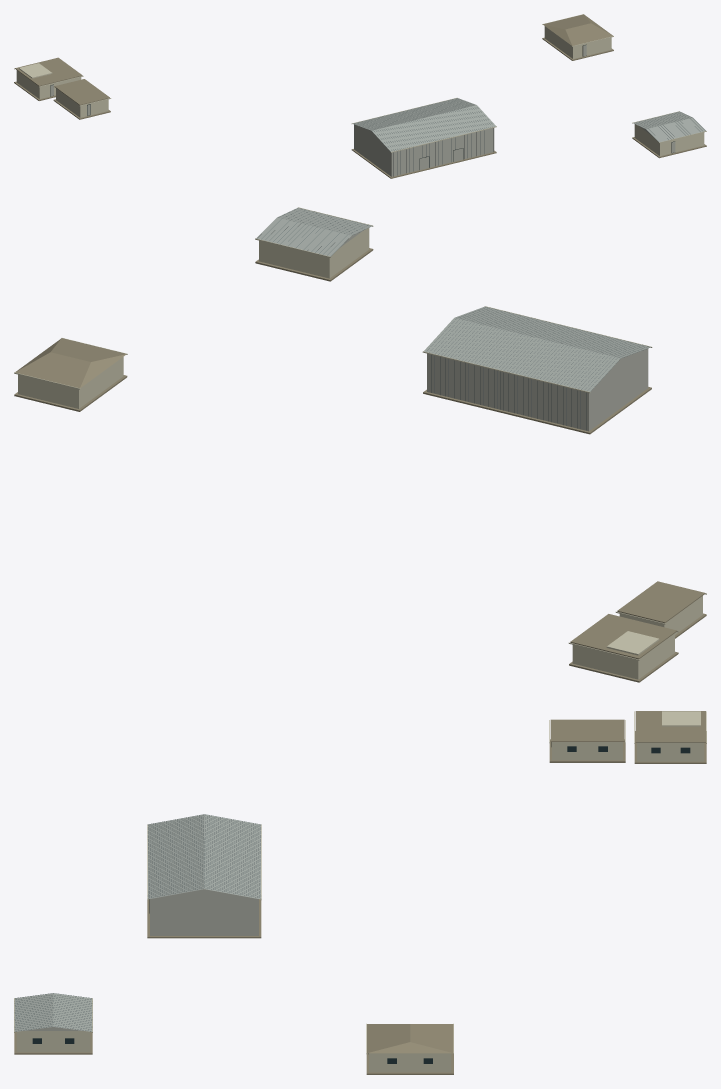
The model's file is buildings.glb.
The picture shows the model from 3 angles, top to bottom: view 1: azimuth 30°, elevation 25°; view 2: azimuth 150°, elevation 25°; view 3: azimuth 270°, elevation 25°; orthographic projection. The views are drawn at different scales.
Parts seen in each view (by area): view 1: ED-01-roof, ED-01-paint, ED-04-concrete, ED-05-roof, ED-01-zinc-edge, ED-05-white, ED-03-concrete, ED-02-concrete, ED-04-white, ED-02-white, ED-03-white, ED-01-concrete; view 2: ED-01-roof, ED-01-paint, ED-01-zinc-edge, ED-04-concrete, ED-05-roof, ED-02-white, ED-05-white, ED-02-concrete, ED-04-white, ED-03-concrete, ED-03-white, ED-01-concrete; view 3: ED-01-roof, ED-01-paint, ED-01-zinc-edge, ED-04-concrete, ED-05-roof, ED-02-concrete, ED-03-concrete, ED-02-white, ED-04-white, ED-05-white, ED-03-white, ED-05-zinc-edge.
Boxes of the visible parts, bbox=[...] form: ED-01-roof: bbox=[352, 98, 495, 151]; ED-01-paint: bbox=[354, 124, 494, 176]; ED-04-concrete: bbox=[542, 14, 613, 60]; ED-05-roof: bbox=[633, 111, 705, 142]; ED-01-zinc-edge: bbox=[354, 99, 493, 176]; ED-05-white: bbox=[632, 111, 706, 156]; ED-03-concrete: bbox=[53, 79, 110, 119]; ED-02-concrete: bbox=[14, 57, 82, 100]; ED-04-white: bbox=[542, 14, 613, 58]; ED-02-white: bbox=[14, 63, 83, 99]; ED-03-white: bbox=[53, 86, 111, 117]; ED-01-concrete: bbox=[351, 149, 496, 178]; ED-01-roof: bbox=[424, 306, 650, 391]; ED-01-paint: bbox=[427, 348, 648, 431]; ED-01-zinc-edge: bbox=[427, 307, 651, 430]; ED-04-concrete: bbox=[14, 338, 127, 411]; ED-05-roof: bbox=[256, 207, 371, 256]; ED-02-white: bbox=[568, 631, 678, 679]; ED-05-white: bbox=[255, 207, 373, 278]; ED-02-concrete: bbox=[569, 614, 678, 682]; ED-04-white: bbox=[14, 338, 127, 408]; ED-03-concrete: bbox=[617, 581, 706, 638]; ED-03-white: bbox=[615, 593, 706, 634]; ED-01-concrete: bbox=[423, 387, 651, 434]; ED-01-roof: bbox=[148, 814, 260, 899]; ED-01-paint: bbox=[149, 889, 258, 935]; ED-01-zinc-edge: bbox=[148, 814, 260, 897]; ED-04-concrete: bbox=[366, 1024, 453, 1074]; ED-05-roof: bbox=[14, 993, 92, 1031]; ED-02-concrete: bbox=[634, 711, 706, 763]; ED-03-concrete: bbox=[549, 719, 625, 762]; ED-02-white: bbox=[634, 711, 706, 761]; ED-04-white: bbox=[366, 1023, 453, 1072]; ED-05-white: bbox=[14, 998, 92, 1052]; ED-03-white: bbox=[549, 720, 625, 760]; ED-05-zinc-edge: bbox=[14, 993, 92, 1031].
Bounding box in the file's own units: 128 × 8.58 × 109.
